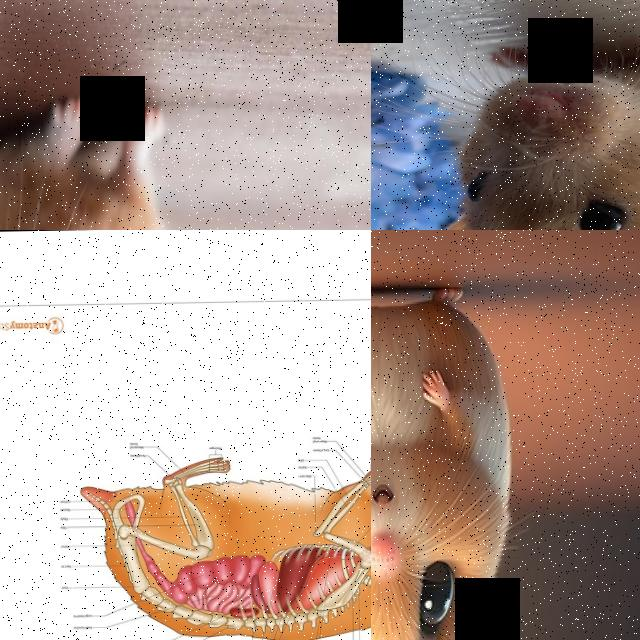hamster: (66, 445, 371, 640), (371, 286, 516, 640), (395, 39, 640, 230), (0, 93, 176, 230)
